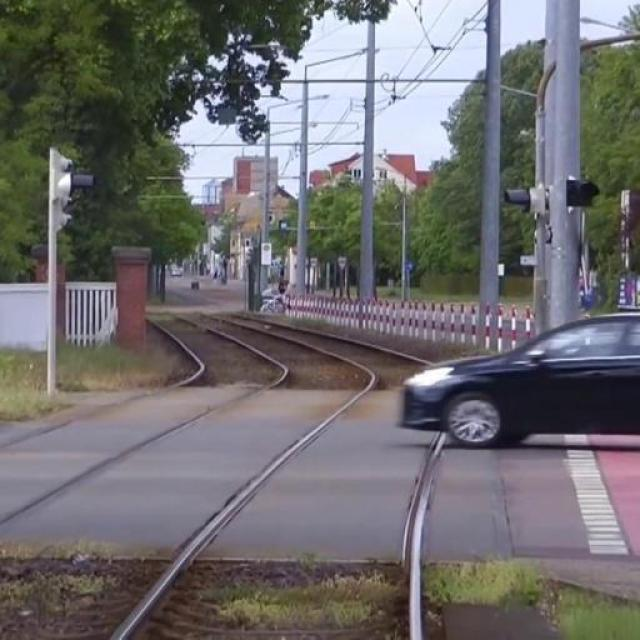vehicle: (399, 302, 640, 450)
